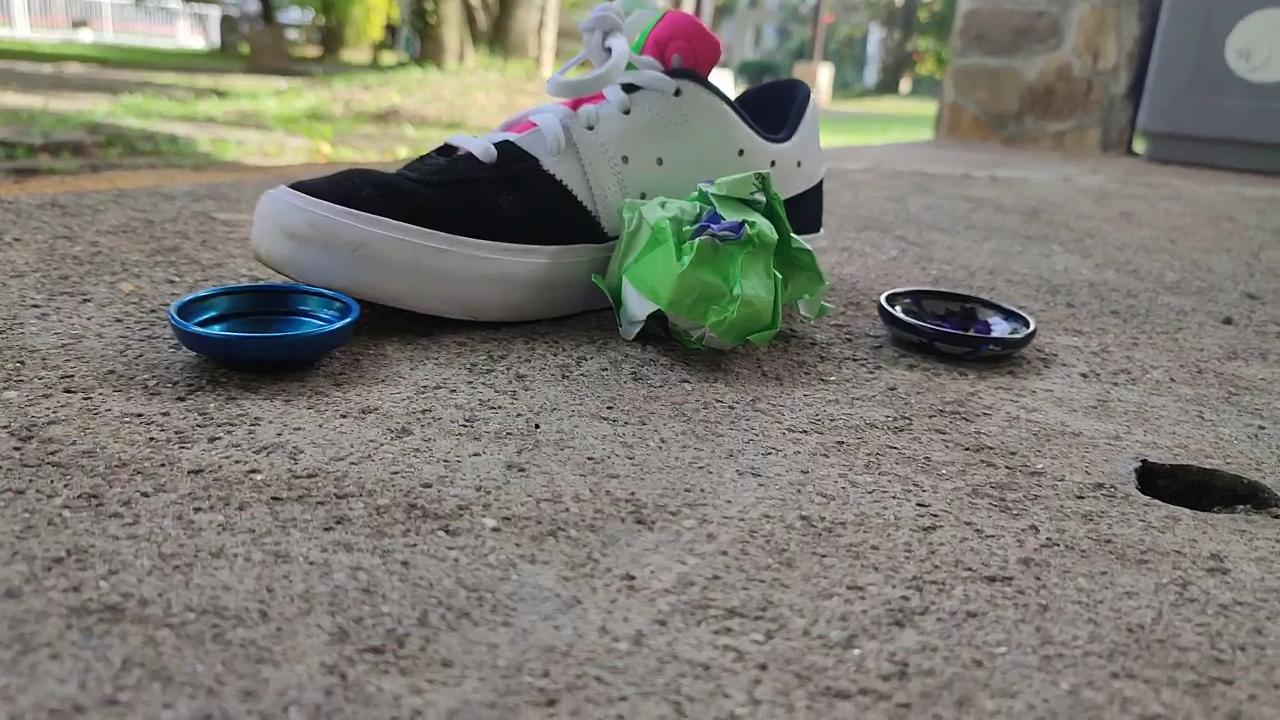Paper: (582, 151, 840, 368)
